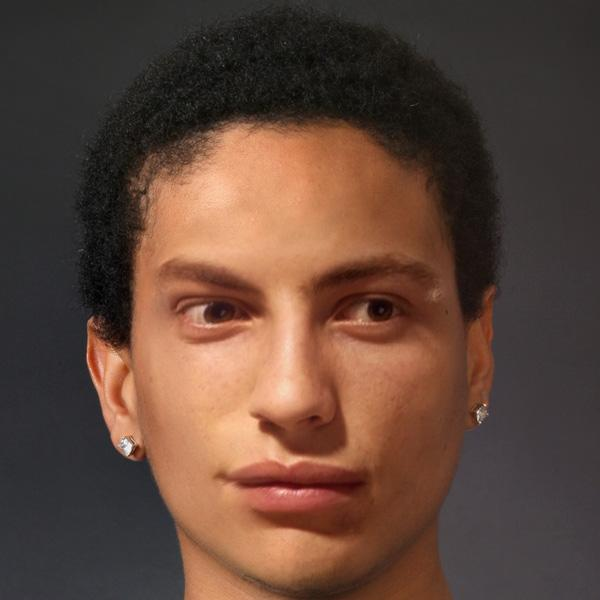Eyes: (165, 287, 265, 341), (325, 284, 420, 338)
